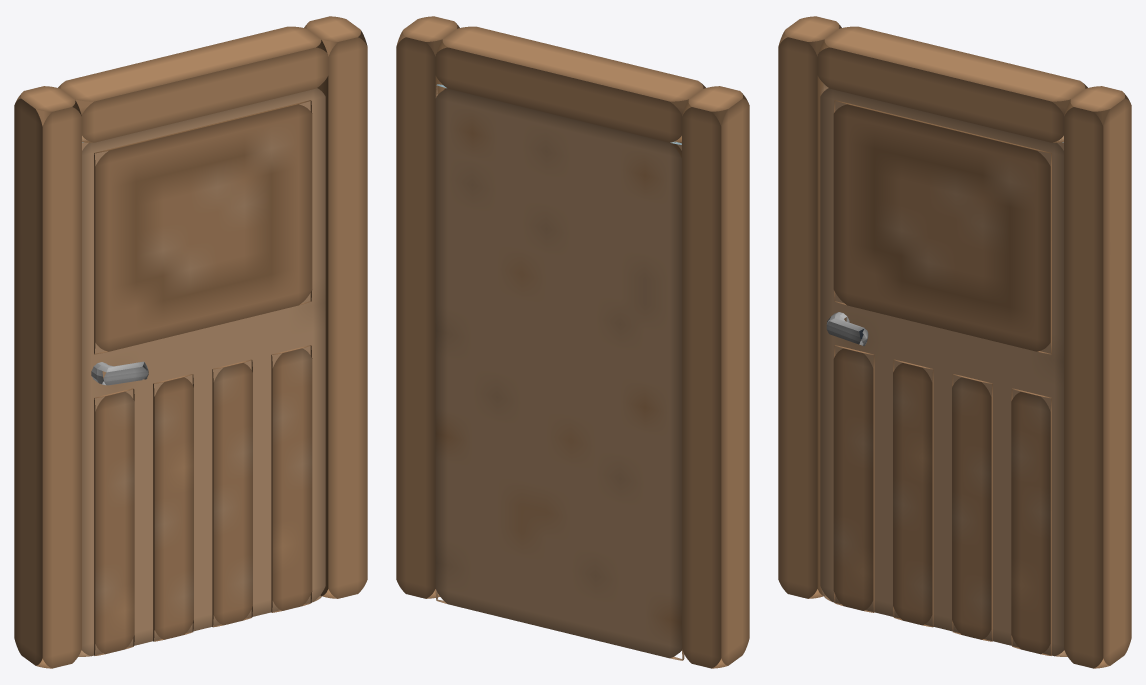
Rendered from Door.fbx.
3 views of the same model, side by side, from view 1: azimuth 30°, elevation 25°; view 2: azimuth 150°, elevation 25°; view 3: azimuth 330°, elevation 25° (orthographic).
Visible parts, largest first — view 1: DoorPlank_4, Door, LeftFrame, RightFrame, TopFrame, DoorPlank, DoorPlank_1, DoorPlank_2, DoorPlank_3, Handtag; view 2: BackBoard, LeftFrame, RightFrame, TopFrame; view 3: DoorPlank_4, Door, RightFrame, LeftFrame, TopFrame, DoorPlank_3, DoorPlank_2, DoorPlank_1, DoorPlank, Handtag.
Boxes of the visible parts, x1,y1,x2,y2 form: DoorPlank_4: [94, 100, 312, 354]; Door: [78, 88, 325, 656]; LeftFrame: [14, 86, 81, 668]; RightFrame: [304, 16, 367, 598]; TopFrame: [58, 26, 328, 142]; DoorPlank: [271, 345, 312, 612]; DoorPlank_1: [212, 359, 252, 627]; DoorPlank_2: [153, 374, 193, 641]; DoorPlank_3: [94, 388, 134, 655]; Handtag: [91, 361, 148, 385]; BackBoard: [435, 84, 684, 660]; LeftFrame: [682, 86, 749, 668]; RightFrame: [396, 16, 459, 598]; TopFrame: [435, 26, 705, 142]; DoorPlank_4: [833, 100, 1051, 354]; Door: [820, 83, 1067, 656]; RightFrame: [1064, 86, 1131, 668]; LeftFrame: [778, 16, 841, 598]; TopFrame: [817, 26, 1087, 142]; DoorPlank_3: [833, 345, 874, 612]; DoorPlank_2: [893, 359, 933, 627]; DoorPlank_1: [952, 374, 992, 641]; DoorPlank: [1011, 388, 1051, 655]; Handtag: [826, 312, 868, 346].
Size of the model in its own units: 41.25 by 67.5 by 8.75.
Materials: 1 (1 with a texture image).
